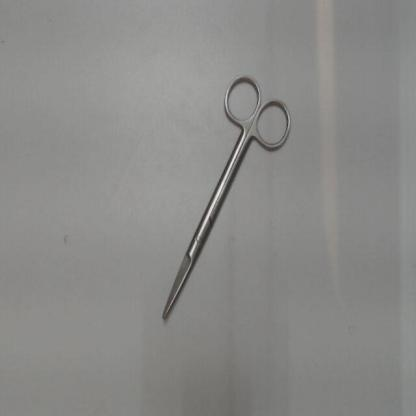Curved Mayo Scissors: (158, 66, 296, 328)
